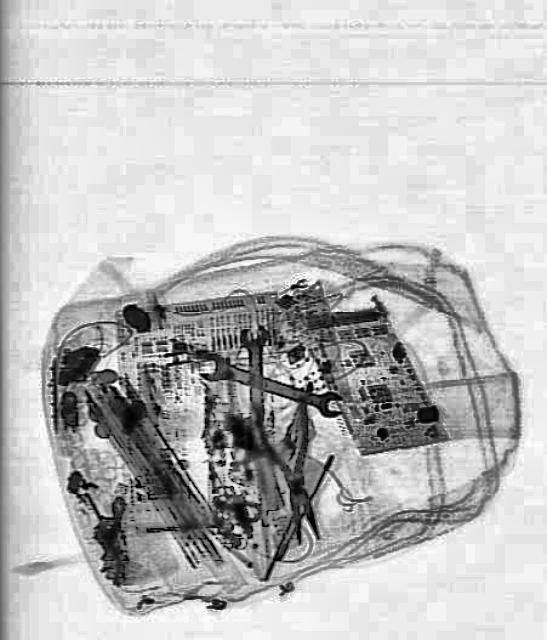Pliers: (251, 388, 333, 550)
Wrench: (196, 347, 344, 419), (236, 324, 278, 452)
